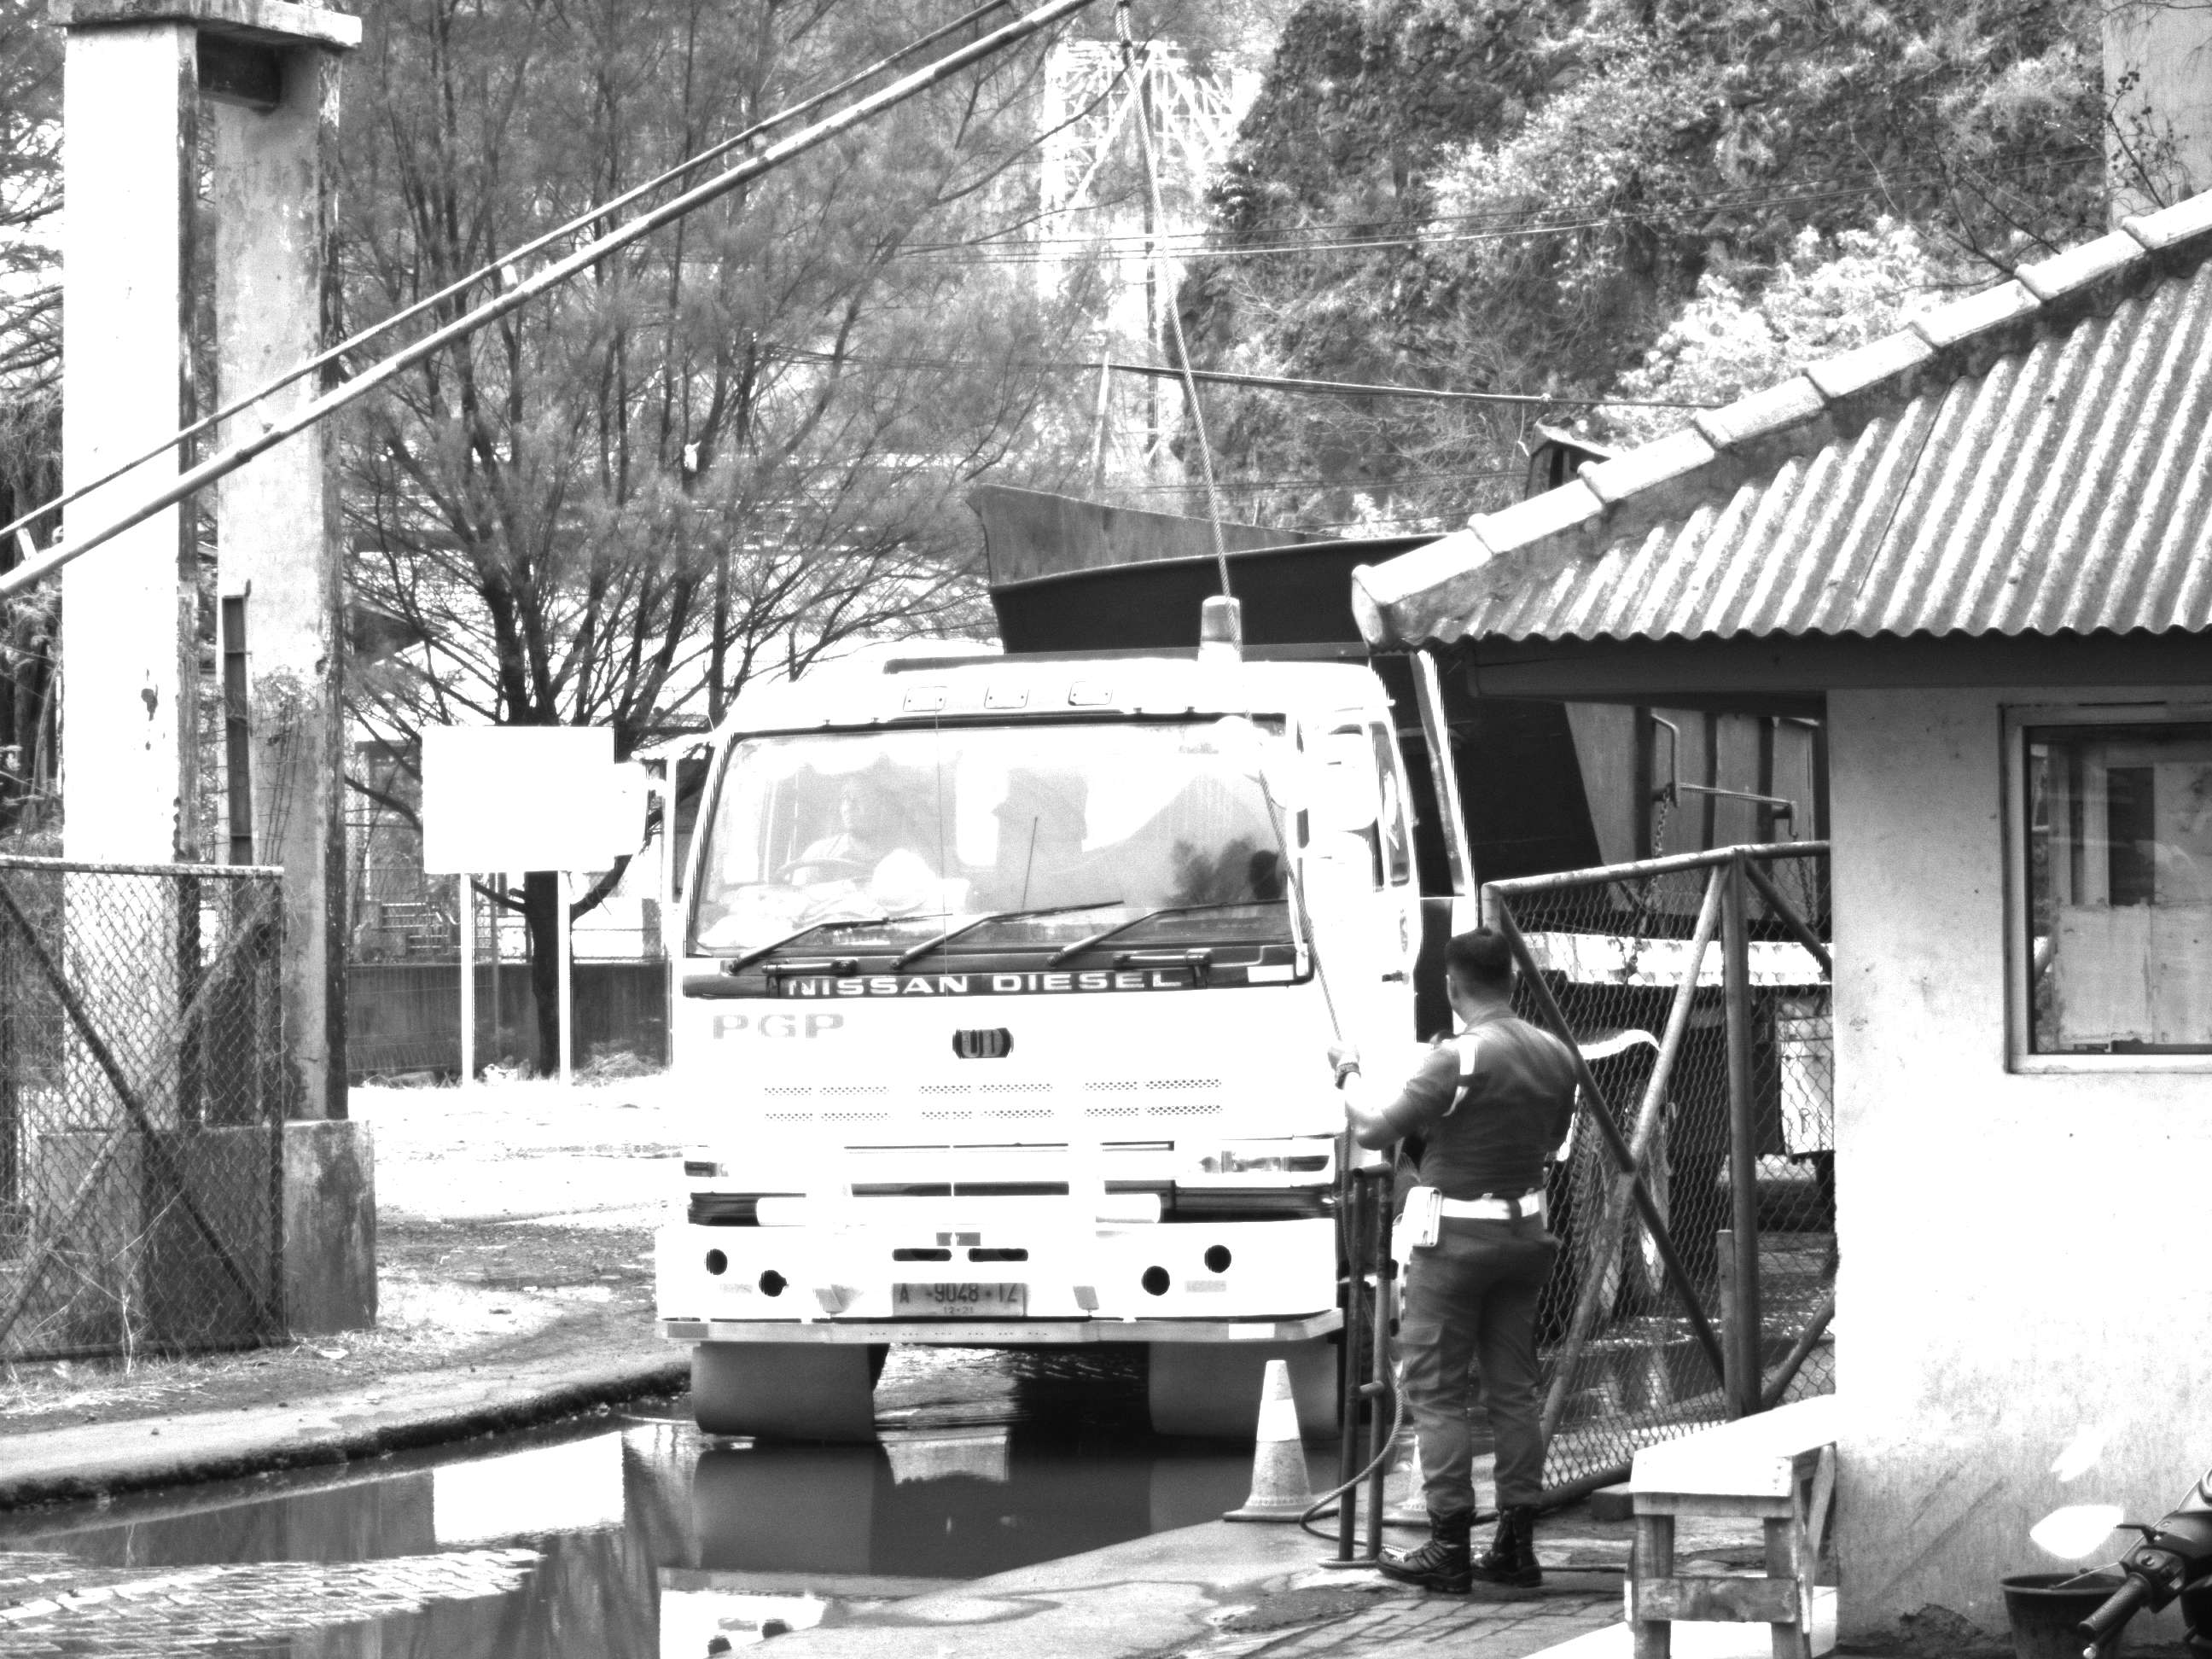day_truck_front: (642, 585, 1414, 1463)
plate: (887, 1279, 1029, 1324)
